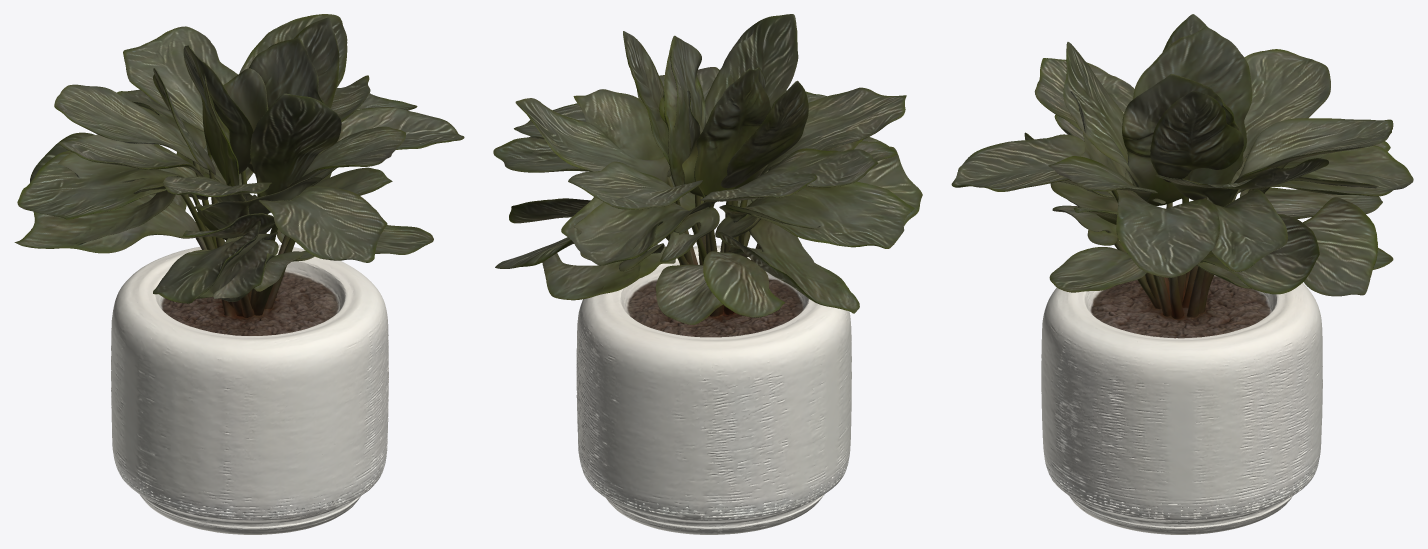
File: 김지현_202601998_DP_02반_10주차실습.glb
3 renders of one model, left to right at view 1: azimuth 30°, elevation 25°; view 2: azimuth 150°, elevation 25°; view 3: azimuth 270°, elevation 25°, orthographic.
Parts seen in each view (by area): view 1: vizcom_node_0; view 2: vizcom_node_0; view 3: vizcom_node_0.
Part boxes in pixels (left/top/right/bottom): vizcom_node_0: left=14, top=14, right=464, bottom=534; vizcom_node_0: left=493, top=14, right=922, bottom=534; vizcom_node_0: left=951, top=14, right=1413, bottom=534.
Bounding box in the file's own units: 1.81 × 1.9 × 1.8.
1 material, 1 textured.
